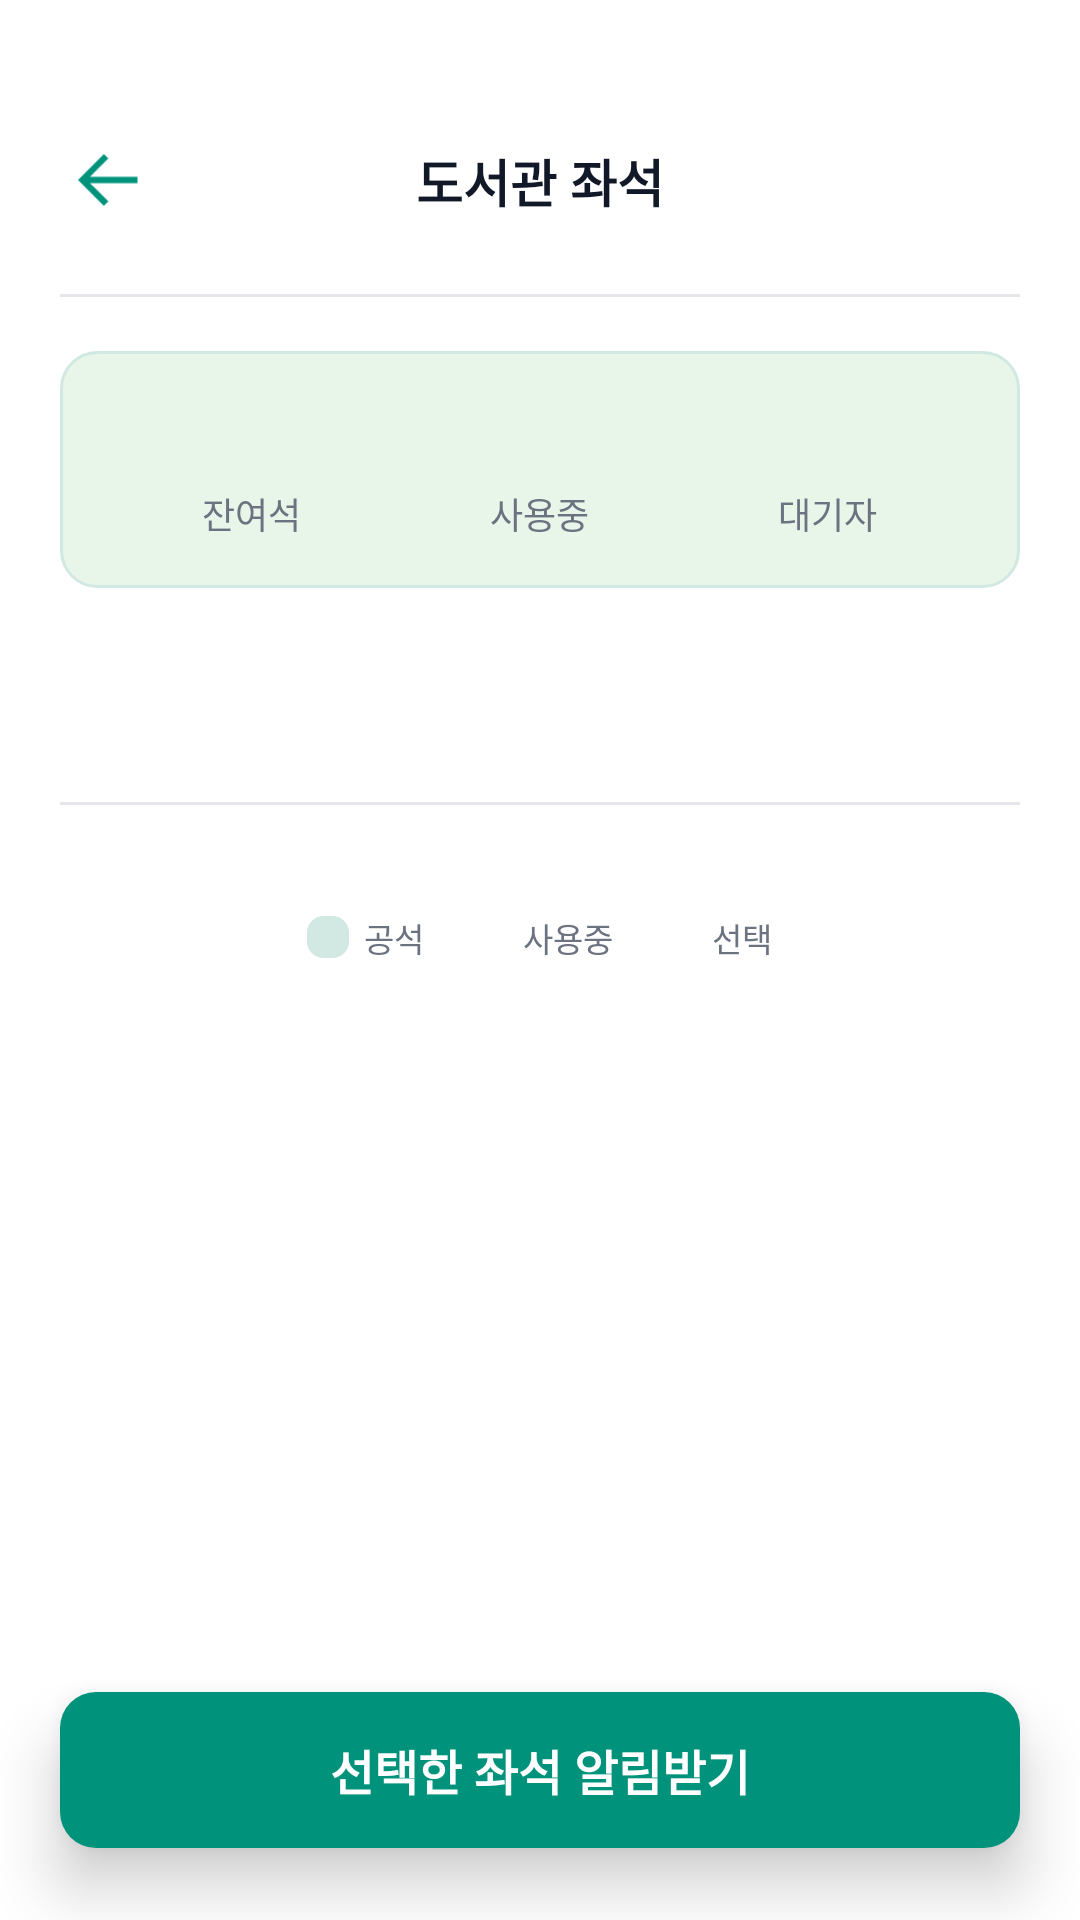

Where icons sit on this 1080*1920 app screen, as [left=x1, top=y1, right=x2, bottom=y2]:
back: [left=78, top=154, right=138, bottom=206]
